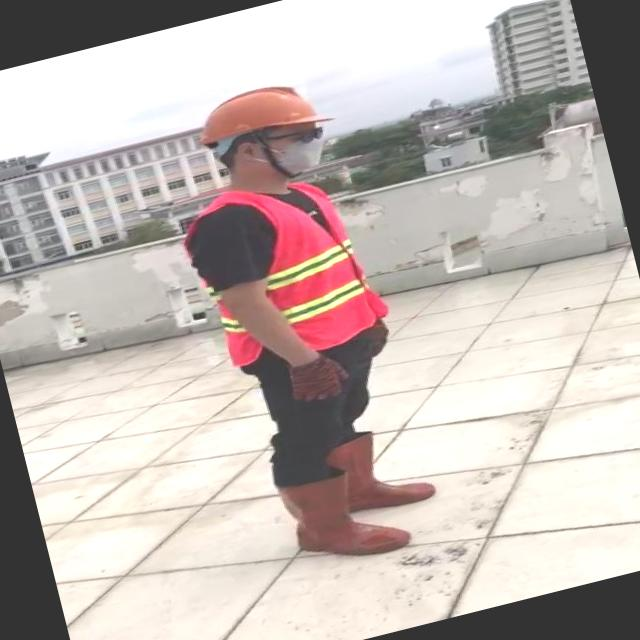boots: (278, 458, 414, 574), (321, 420, 436, 522)
helmet: (183, 70, 332, 156)
vest: (180, 172, 389, 376)
